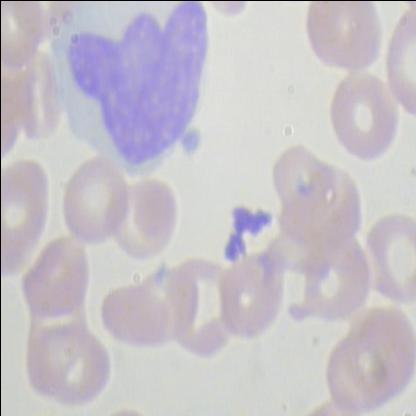Platelets: (178, 129, 206, 162), (227, 199, 251, 237), (218, 233, 246, 262), (249, 206, 274, 238)
RBC: (211, 254, 292, 344), (302, 0, 384, 80), (329, 67, 398, 160), (110, 179, 180, 264), (58, 162, 128, 246), (363, 213, 415, 307), (386, 3, 416, 121)
WBC: (44, 1, 216, 179)
